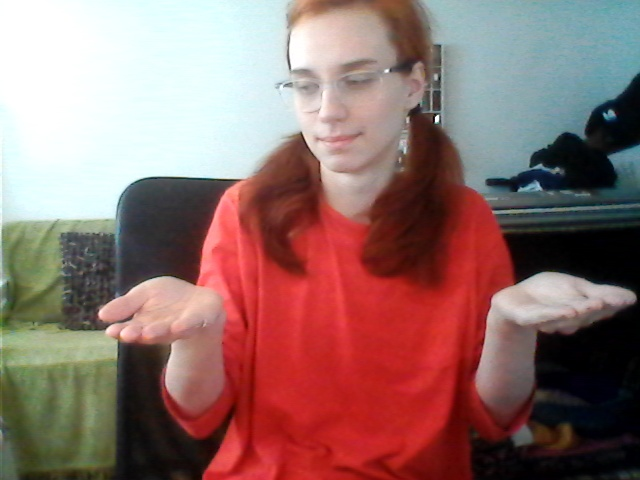alebo: (95, 264, 638, 365)
